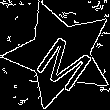M_NE: (26, 21, 95, 88)
